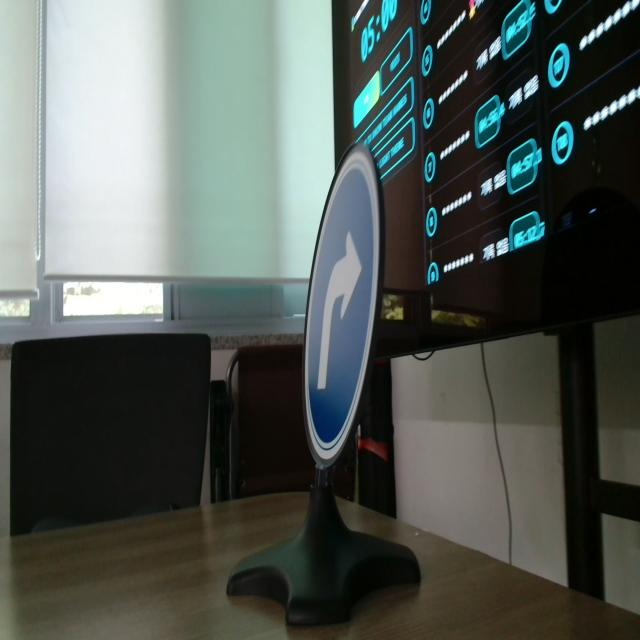right_dierection: (281, 125, 414, 448)
